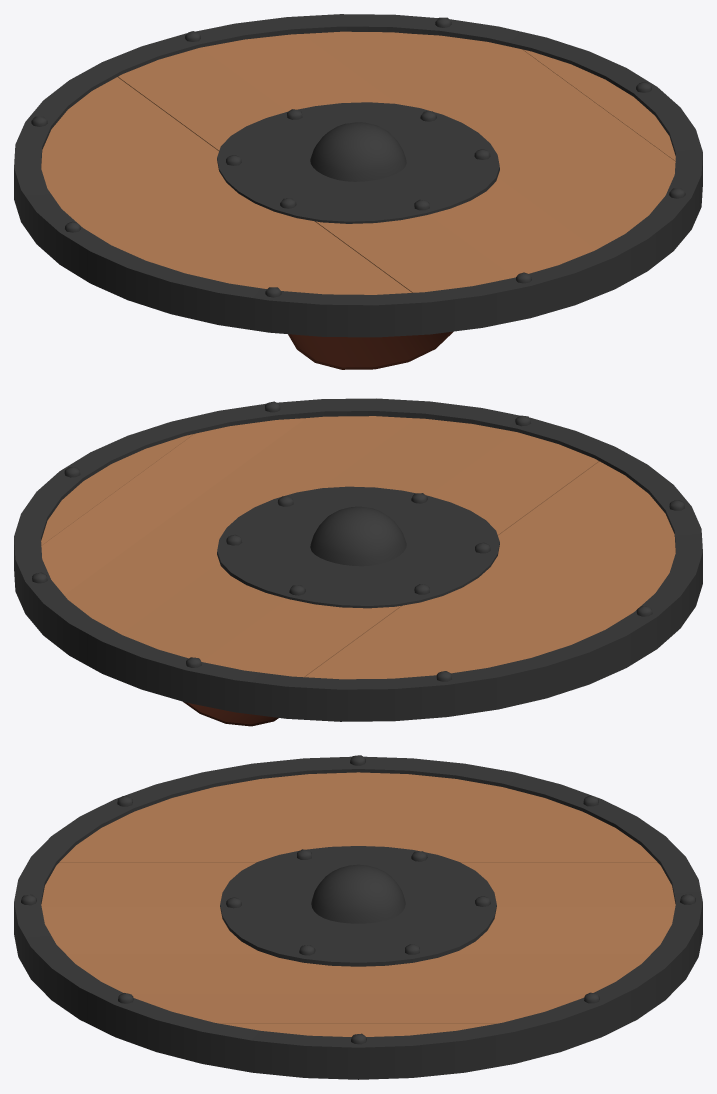
File: escudo.fbx
The picture shows the model from 3 angles, top to bottom: view 1: azimuth 30°, elevation 25°; view 2: azimuth 150°, elevation 25°; view 3: azimuth 270°, elevation 25°; orthographic projection.
Parts seen in each view (by area): view 1: aro004, detalle006, tabla_047, tabla_044, tabla_046, tabla_045, tabla_043, tabla_048, agarradera006, tabla006, tabla_049; view 2: aro004, detalle006, tabla_047, tabla_044, tabla_046, tabla_045, tabla_043, tabla_048, tabla006, tabla_049, agarradera005; view 3: aro004, detalle006, tabla_047, tabla_044, tabla_045, tabla_046, tabla_048, tabla_043, tabla_049, tabla006.
Part boxes in pixels (x1=…): aro004: x1=14, y1=14, x2=702, y2=337; detalle006: x1=217, y1=102, x2=499, y2=223; tabla_047: x1=62, y1=77, x2=411, y2=294; tabla_044: x1=302, y1=31, x2=652, y2=249; tabla_046: x1=118, y1=47, x2=514, y2=292; tabla_045: x1=201, y1=34, x2=595, y2=277; tabla_043: x1=412, y1=34, x2=675, y2=210; tabla_048: x1=41, y1=117, x2=300, y2=292; agarradera006: x1=288, y1=331, x2=453, y2=369; tabla006: x1=523, y1=49, x2=675, y2=161; tabla_049: x1=41, y1=166, x2=187, y2=273; aro004: x1=14, y1=398, x2=702, y2=721; detalle006: x1=217, y1=486, x2=499, y2=608; tabla_047: x1=305, y1=461, x2=654, y2=679; tabla_044: x1=64, y1=416, x2=414, y2=633; tabla_046: x1=202, y1=432, x2=598, y2=677; tabla_045: x1=121, y1=418, x2=515, y2=661; tabla_043: x1=41, y1=418, x2=304, y2=594; tabla_048: x1=416, y1=501, x2=675, y2=676; tabla006: x1=41, y1=434, x2=193, y2=545; tabla_049: x1=529, y1=551, x2=675, y2=658; agarradera005: x1=183, y1=701, x2=278, y2=726; aro004: x1=14, y1=756, x2=702, y2=1079; detalle006: x1=220, y1=846, x2=496, y2=966; tabla_047: x1=60, y1=821, x2=656, y2=862; tabla_044: x1=65, y1=953, x2=651, y2=993; tabla_045: x1=41, y1=907, x2=675, y2=953; tabla_046: x1=41, y1=862, x2=675, y2=907; tabla_048: x1=114, y1=789, x2=602, y2=821; tabla_043: x1=128, y1=993, x2=587, y2=1023; tabla_049: x1=205, y1=772, x2=511, y2=789; tabla006: x1=223, y1=1024, x2=493, y2=1036.
Bounding box in the file's own units: 80.41 × 22.73 × 80.41.
